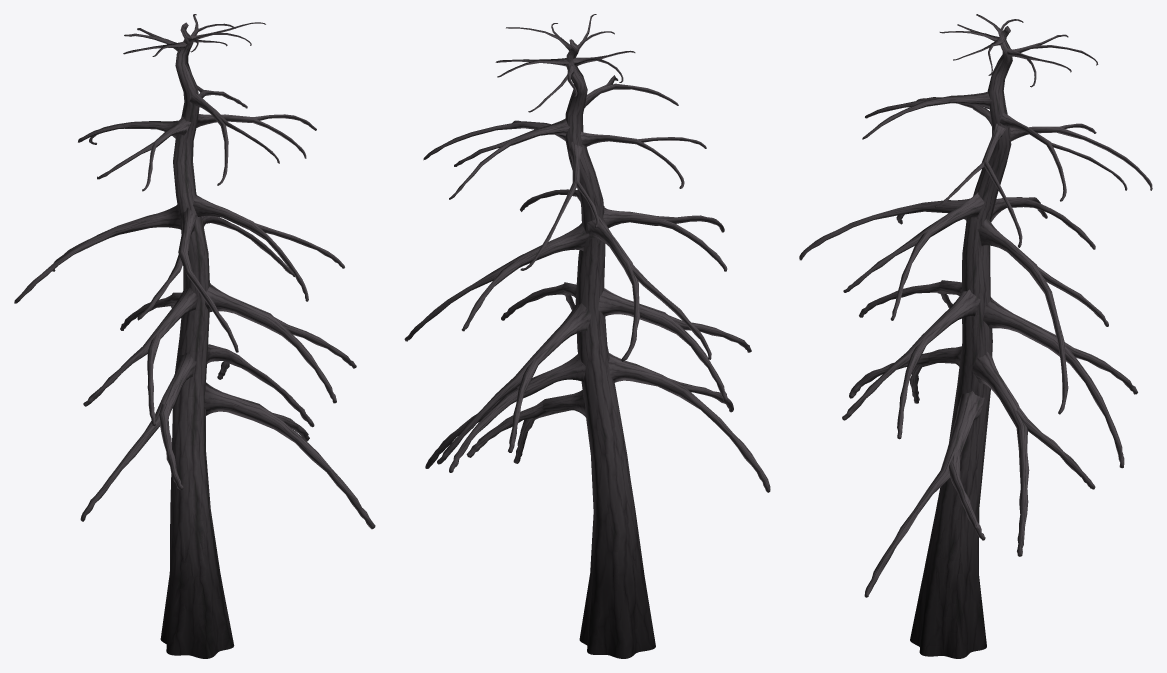
The model's file is nature-deadtree-5.glb.
3 views of the same model, side by side, from view 1: azimuth 30°, elevation 25°; view 2: azimuth 150°, elevation 25°; view 3: azimuth 270°, elevation 25° (orthographic). The views are drawn at different scales.
Visible parts, largest first — view 1: DeadTree_5; view 2: DeadTree_5; view 3: DeadTree_5.
Part boxes in pixels (<box>): DeadTree_5: <box>14,14,375,658</box>; DeadTree_5: <box>404,14,770,658</box>; DeadTree_5: <box>799,14,1152,658</box>.
Bounding box in the file's own units: 8.36 × 16.44 × 8.41.
Materials: 1 (1 with a texture image).
